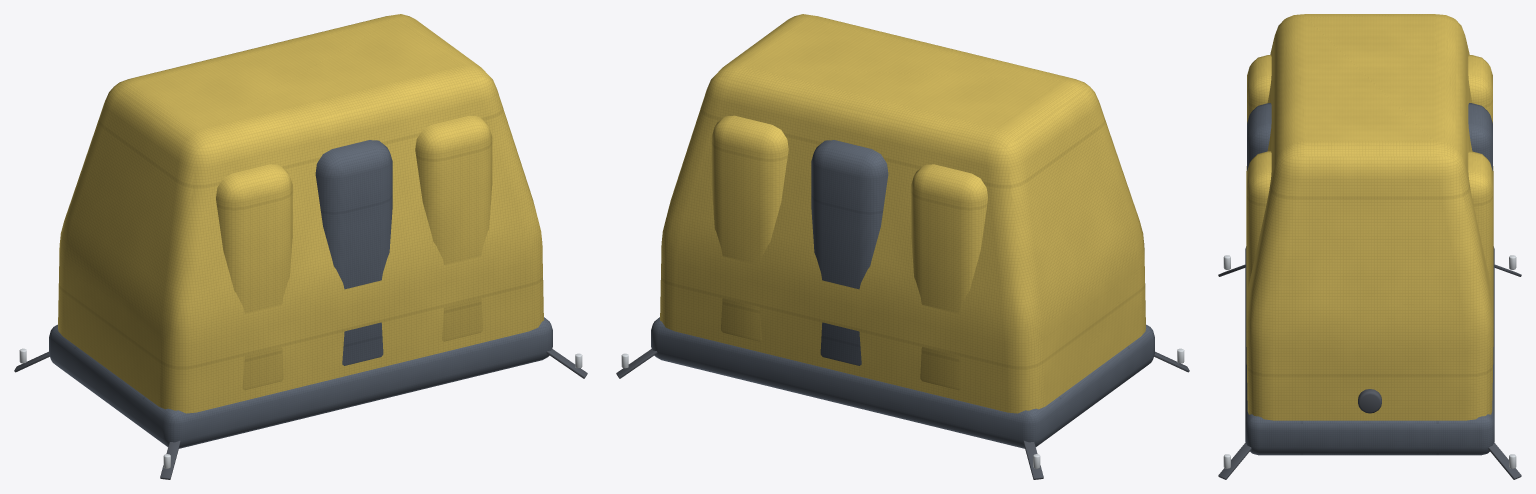
File: bunker_temple_gold.glb
The picture shows the model from 3 angles, left to right: view 1: azimuth 30°, elevation 25°; view 2: azimuth 150°, elevation 25°; view 3: azimuth 270°, elevation 25°; orthographic projection.
Parts seen in each view (by area): view 1: TempleMain, TempleSkirt, TempleRib_0.75, TempleRib_0.00, TempleRib_-0.75; view 2: TempleMain, TempleSkirt, TempleRib_0.75, TempleRib_0.00, TempleRib_-0.75; view 3: TempleMain, TempleSkirt, TempleRib_0.75, TempleRib_-0.75, TempleRib_0.00, AirValve, Strap_1, Strap_2.
Part boxes in pixels (x1,y1,x2,y2): TempleMain: [58, 14, 543, 413]; TempleSkirt: [49, 317, 552, 448]; TempleRib_0.75: [415, 115, 492, 341]; TempleRib_0.00: [315, 140, 392, 365]; TempleRib_-0.75: [216, 164, 292, 390]; TempleMain: [660, 14, 1145, 413]; TempleSkirt: [651, 317, 1154, 448]; TempleRib_0.75: [711, 115, 788, 341]; TempleRib_0.00: [811, 140, 888, 365]; TempleRib_-0.75: [911, 164, 987, 390]; TempleMain: [1246, 14, 1493, 420]; TempleSkirt: [1245, 246, 1494, 455]; TempleRib_0.75: [1247, 151, 1492, 295]; TempleRib_-0.75: [1247, 55, 1492, 122]; TempleRib_0.00: [1247, 103, 1492, 170]; AirValve: [1358, 389, 1381, 413]; Strap_1: [1218, 442, 1251, 479]; Strap_2: [1488, 442, 1521, 479].
Size of the model in its own units: 3.22 by 2.16 by 2.
Materials: 5 (3 with a texture image).
